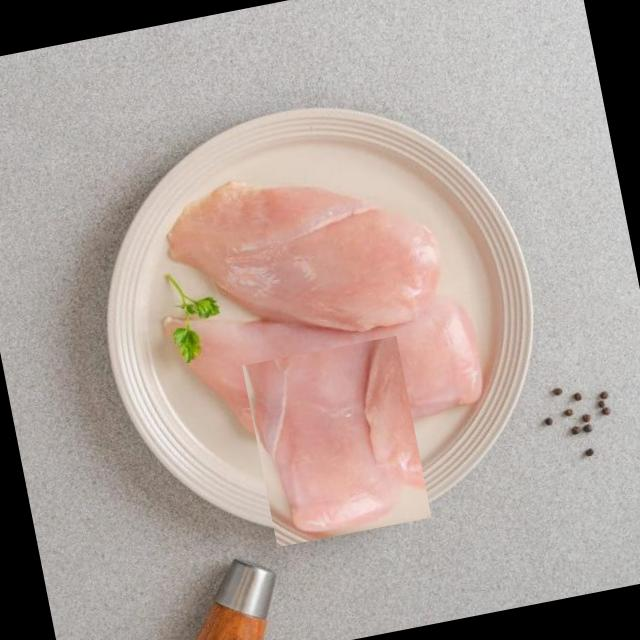chicken: (183, 232, 465, 514), (156, 144, 466, 376)
